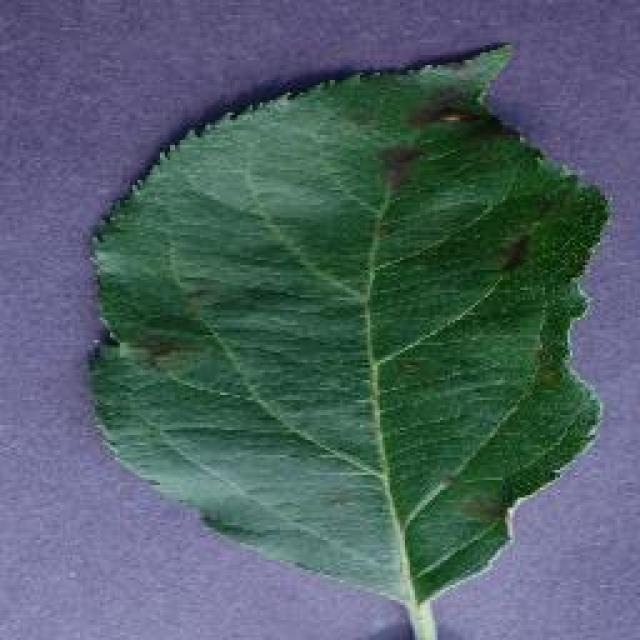apple scab disease: (82, 38, 610, 638)
